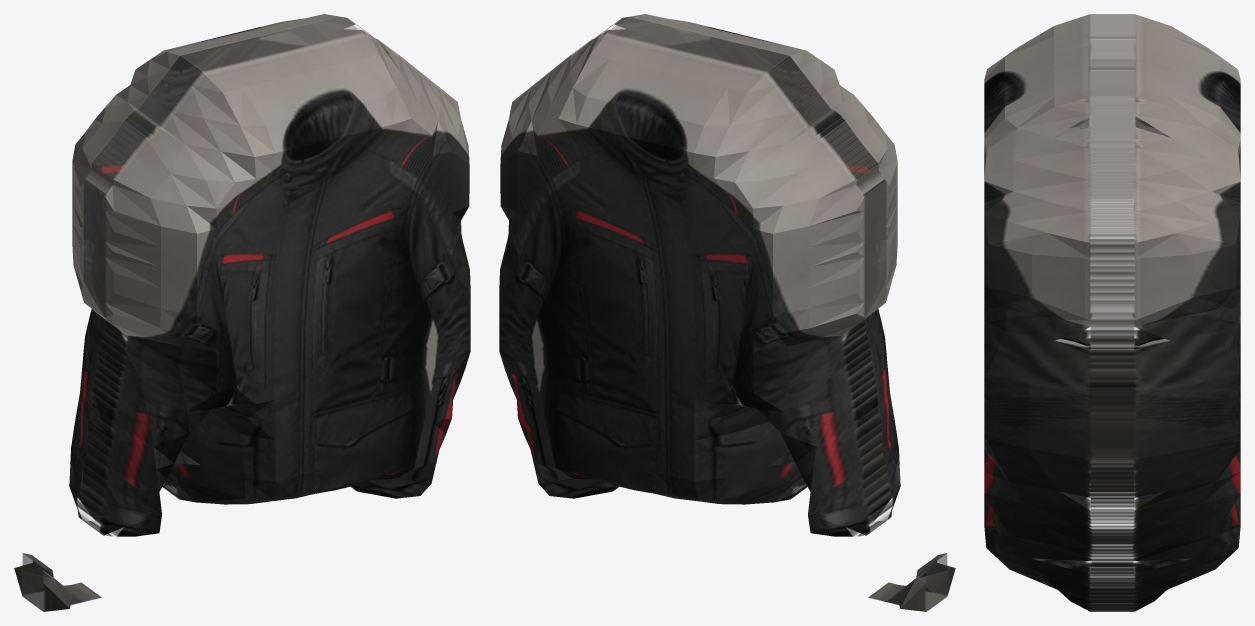
File: held-vantage-touring-jacket-022.glb
3 views of the same model, side by side, from view 1: azimuth 30°, elevation 25°; view 2: azimuth 150°, elevation 25°; view 3: azimuth 270°, elevation 25° (orthographic). The views are drawn at different scales.
Parts seen in each view (by area): view 1: world; view 2: world; view 3: world.
Part boxes in pixels (x1,y1,x2,y2): world: [14, 14, 470, 611]; world: [499, 14, 955, 611]; world: [984, 14, 1240, 611].
Size of the model in its own units: 0.8665 by 1 by 0.44.
Materials: 1 (1 with a texture image).
